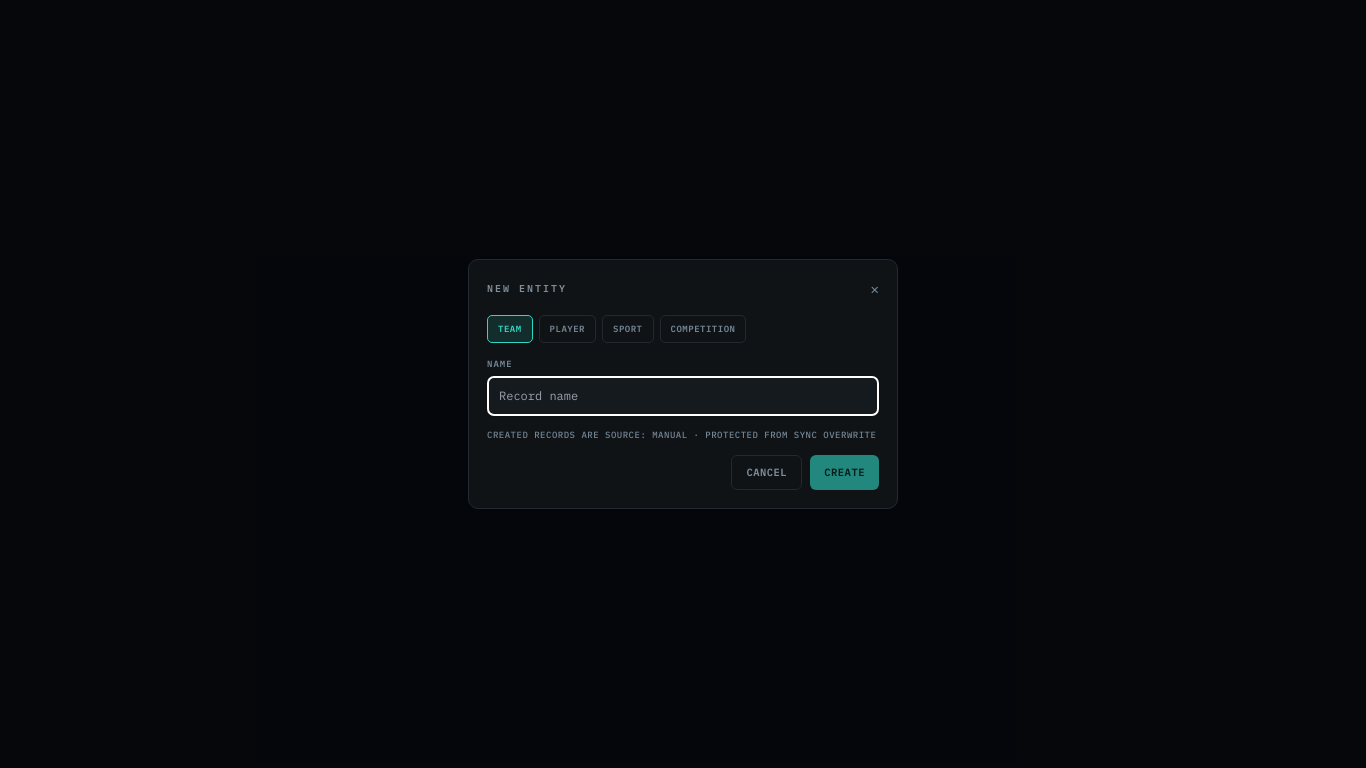
RegistryCreateModal — chrome + kind chips › kind chips behave as a radio (default team; selecting player switches)
Click the button "PLAYER".
click(567, 329)  # box [539,315,596,343]
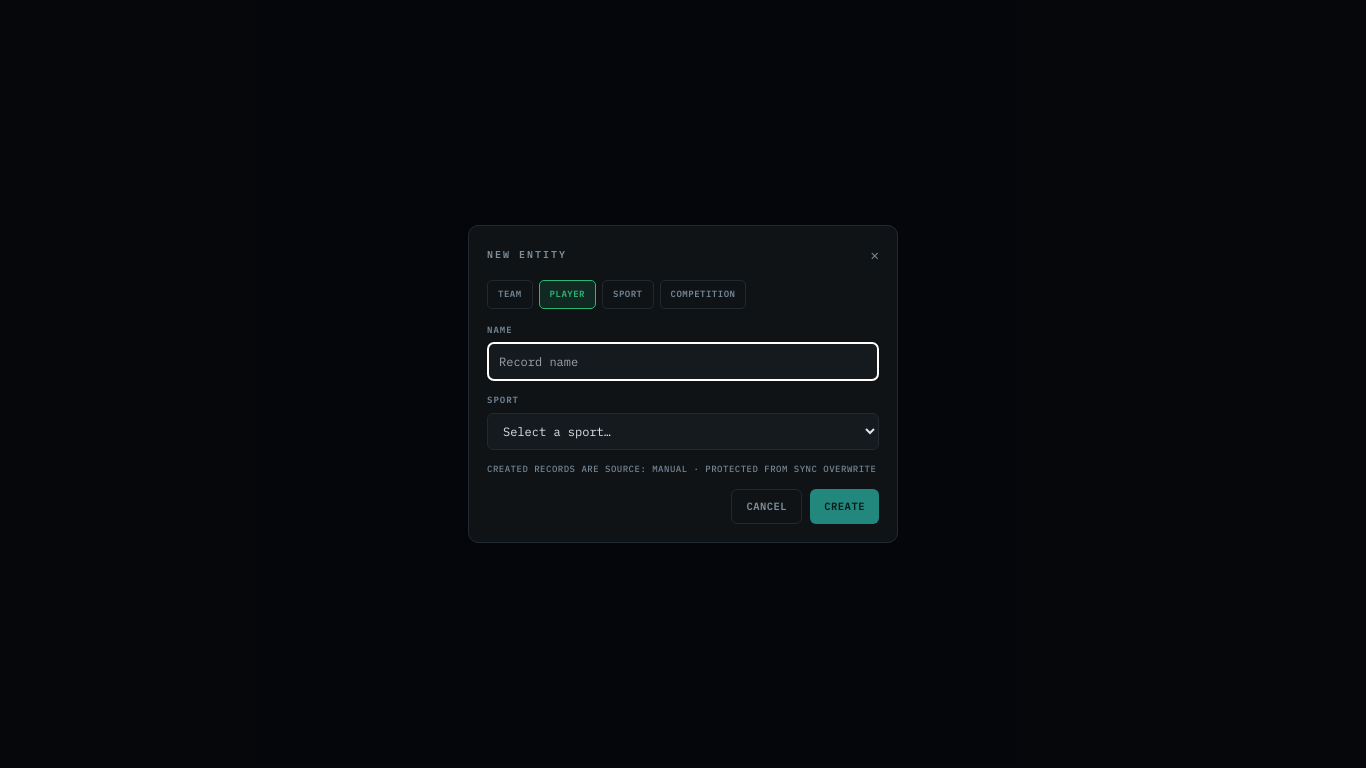
Check: the dropdown with test id "ops-create-sport" is shown, box [487,413,879,450]
